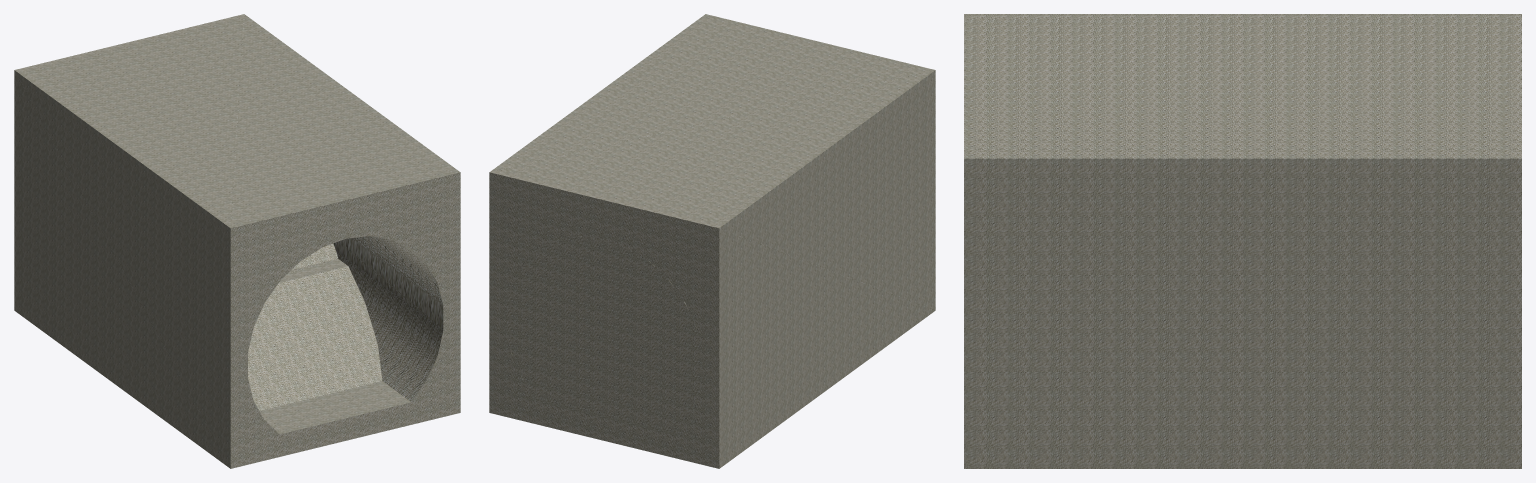
File: ExcavThreeStep2.glb
3 views of the same model, side by side, from view 1: azimuth 30°, elevation 25°; view 2: azimuth 150°, elevation 25°; view 3: azimuth 270°, elevation 25° (orthographic). The views are drawn at different scales.
Bounding box in the file's own units: 16 × 16 × 26.08.
Materials: 1 (1 with a texture image).
